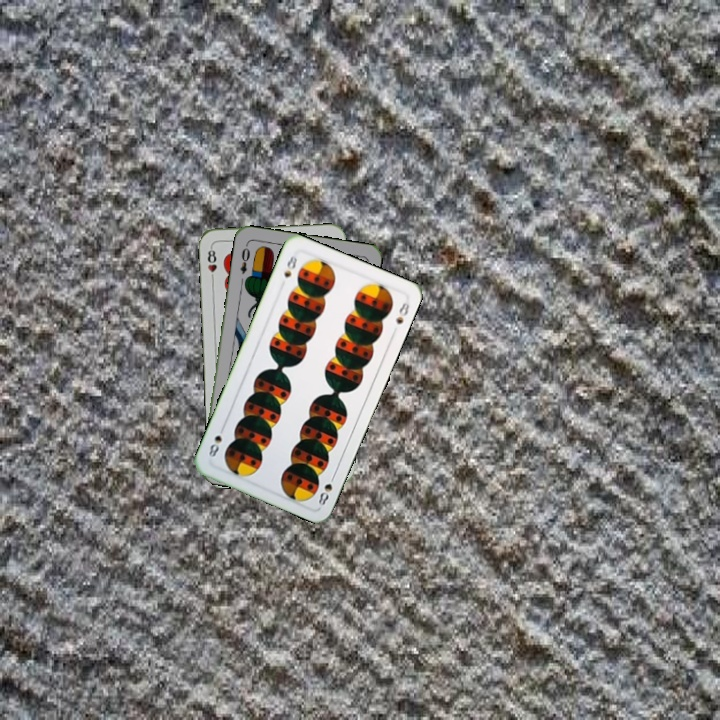EO: (236, 240, 252, 276)
H8: (204, 243, 219, 284)
S8: (314, 470, 338, 509), (280, 251, 300, 280)
